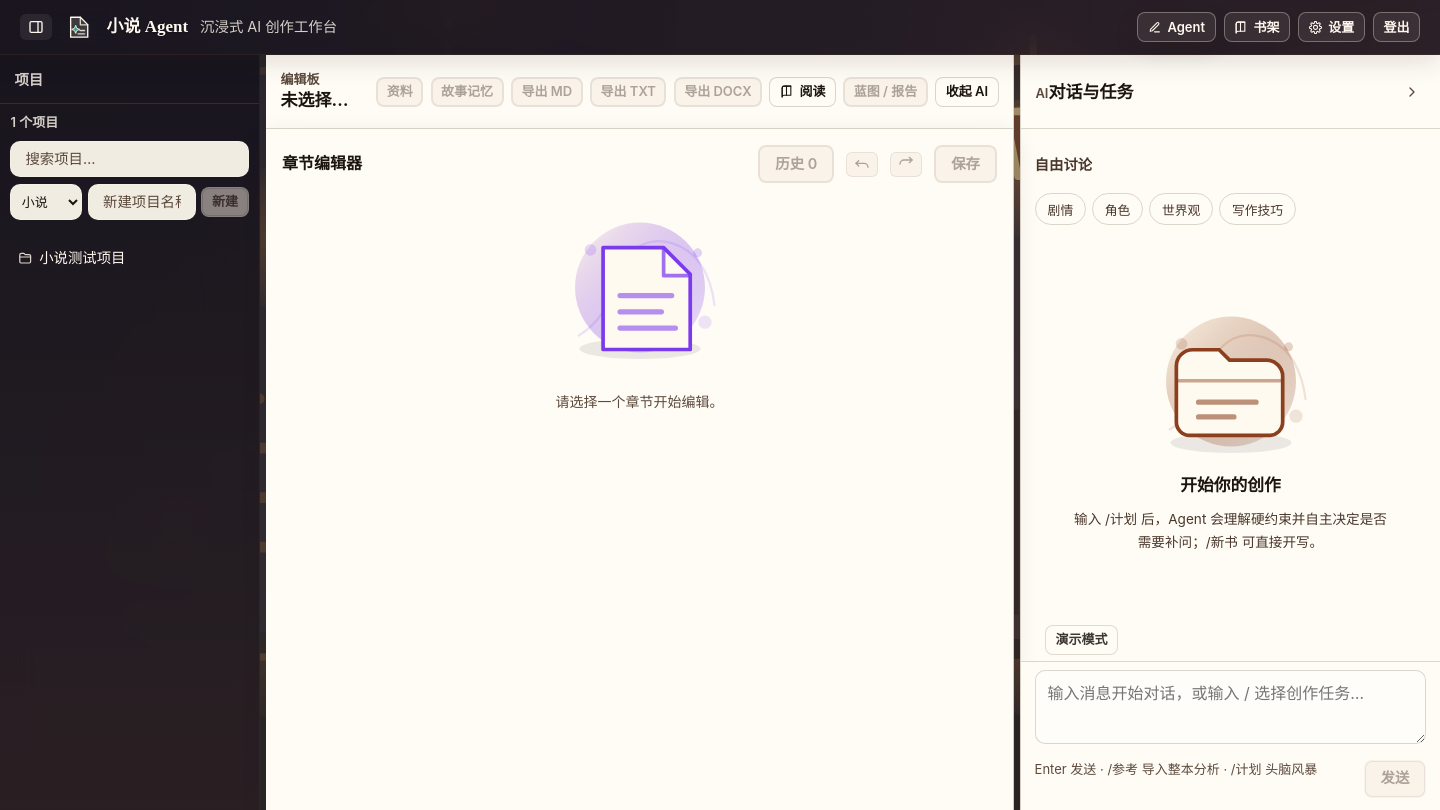
App shell › keeps the existing editor text when generated acceptance fails
Click the button titled "小说测试项目" at (101, 258), box [14, 241, 188, 275]
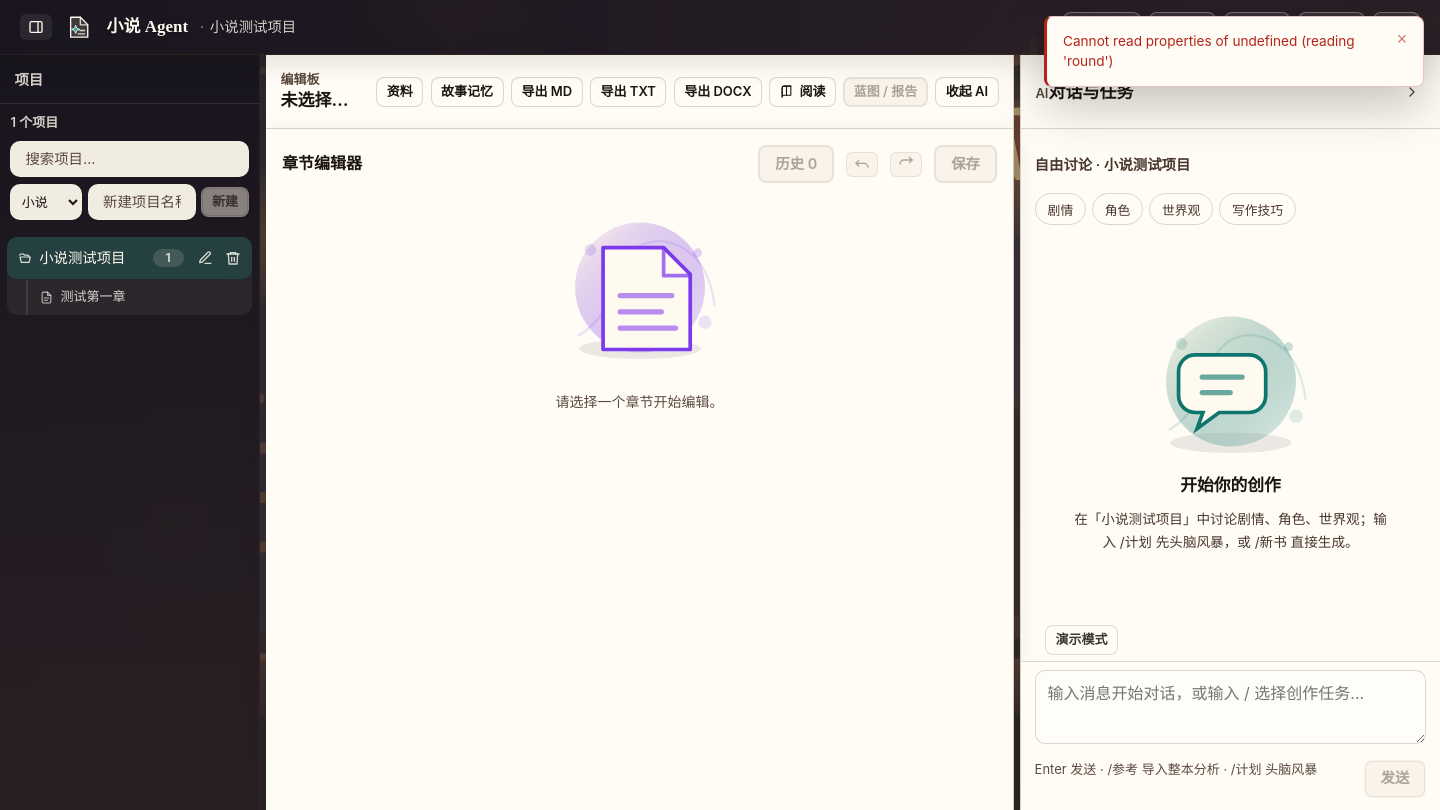
Click the button titled "测试第一章" at (128, 297), box [33, 282, 223, 312]
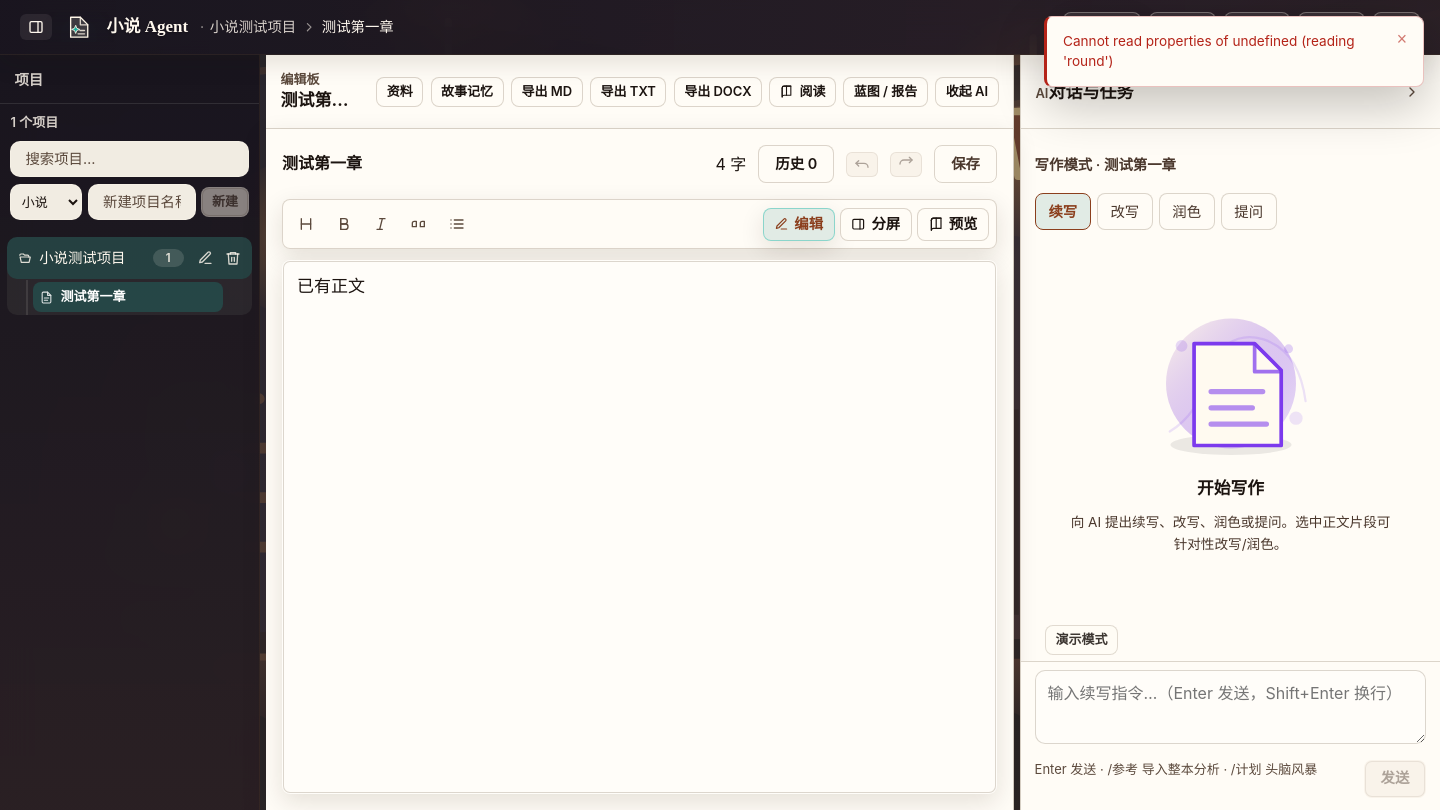
Expected: the text box named "章节正文" is shown, [282, 260, 997, 794]
Type "继续写" into the text box named "对话输入" at (1230, 706), box [1035, 670, 1426, 744]
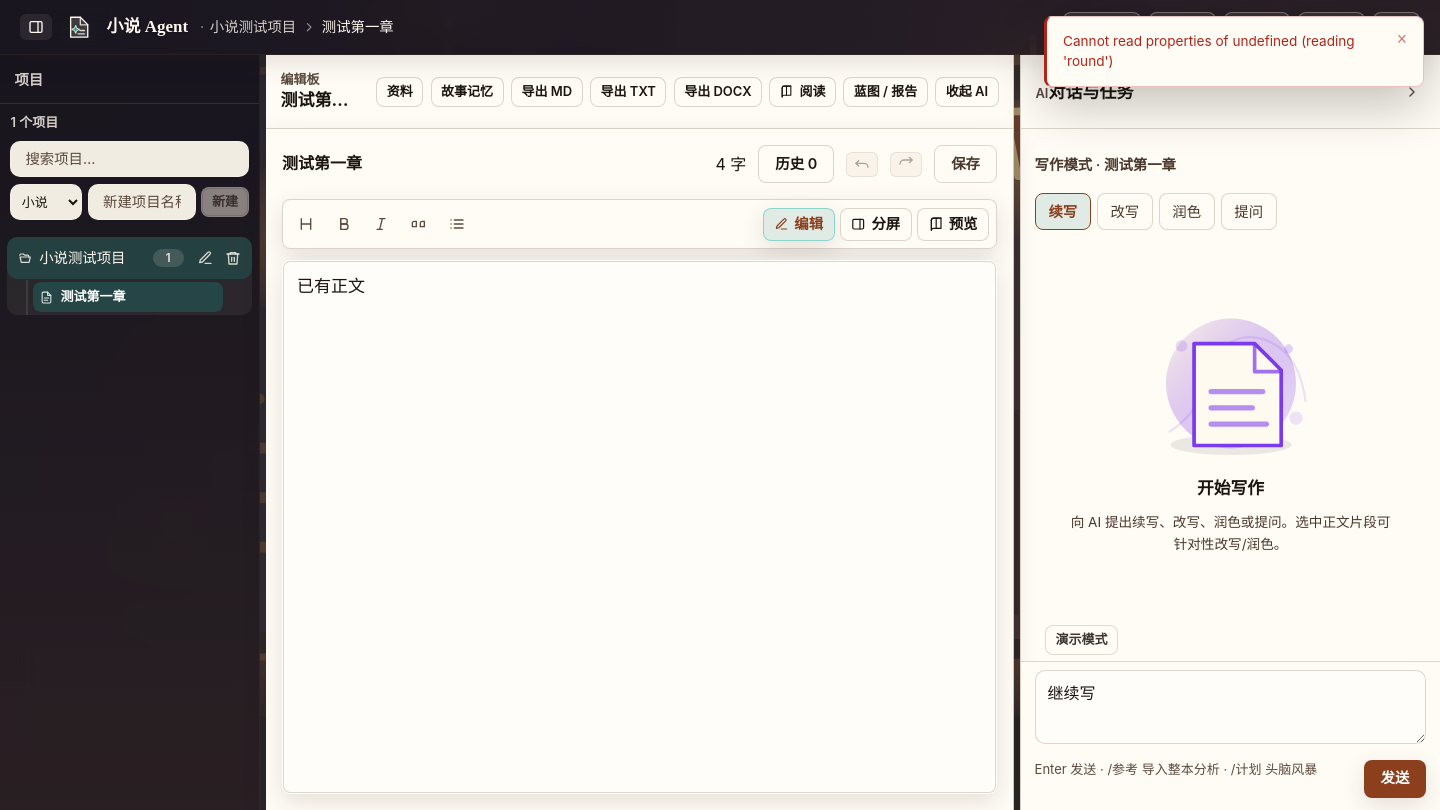
Click the button "发送" at (1395, 779), box [1364, 760, 1426, 798]
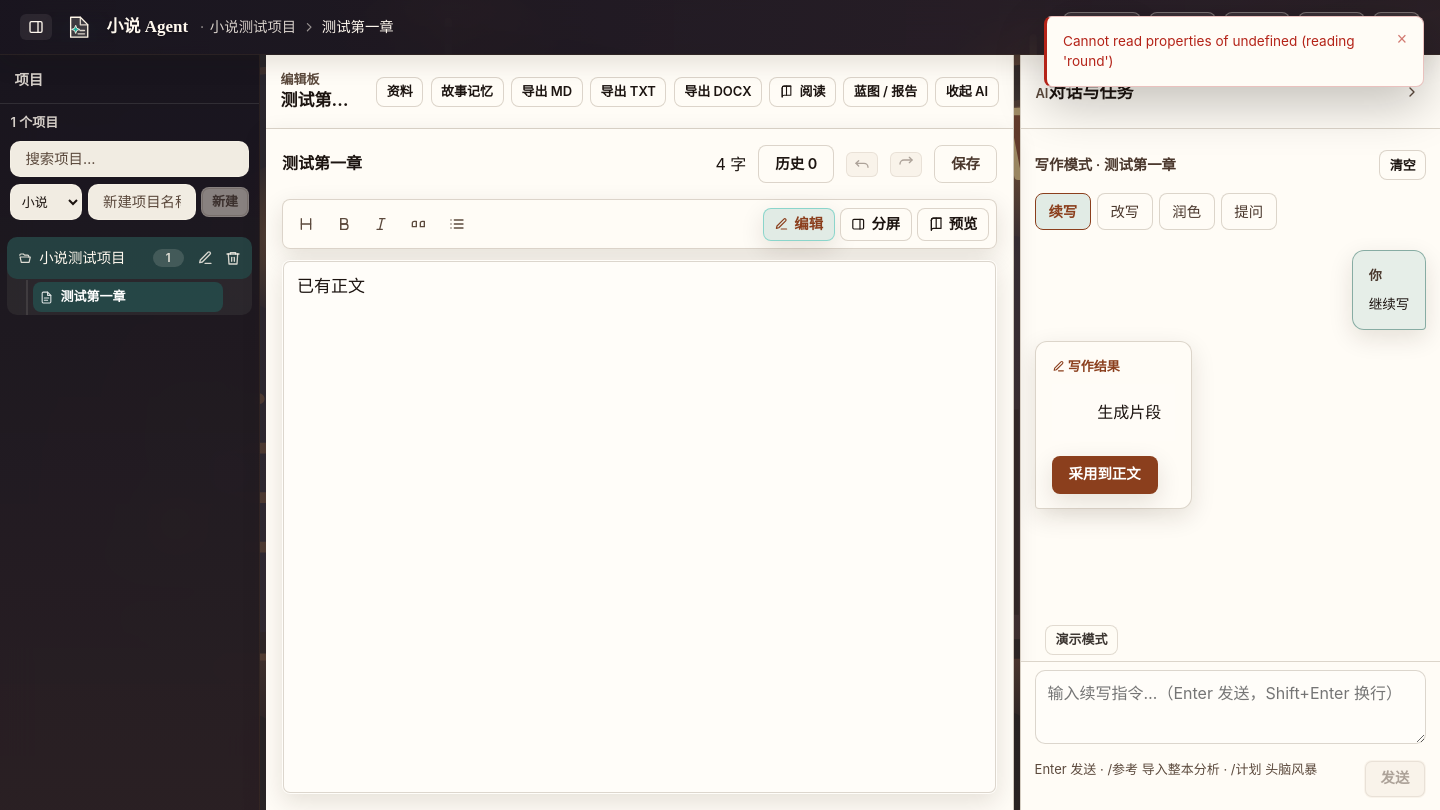
Expected: the text "生成片段" is shown, [1052, 384, 1175, 441]
Click the button "采用到正文" at (1105, 475), box [1052, 456, 1158, 494]
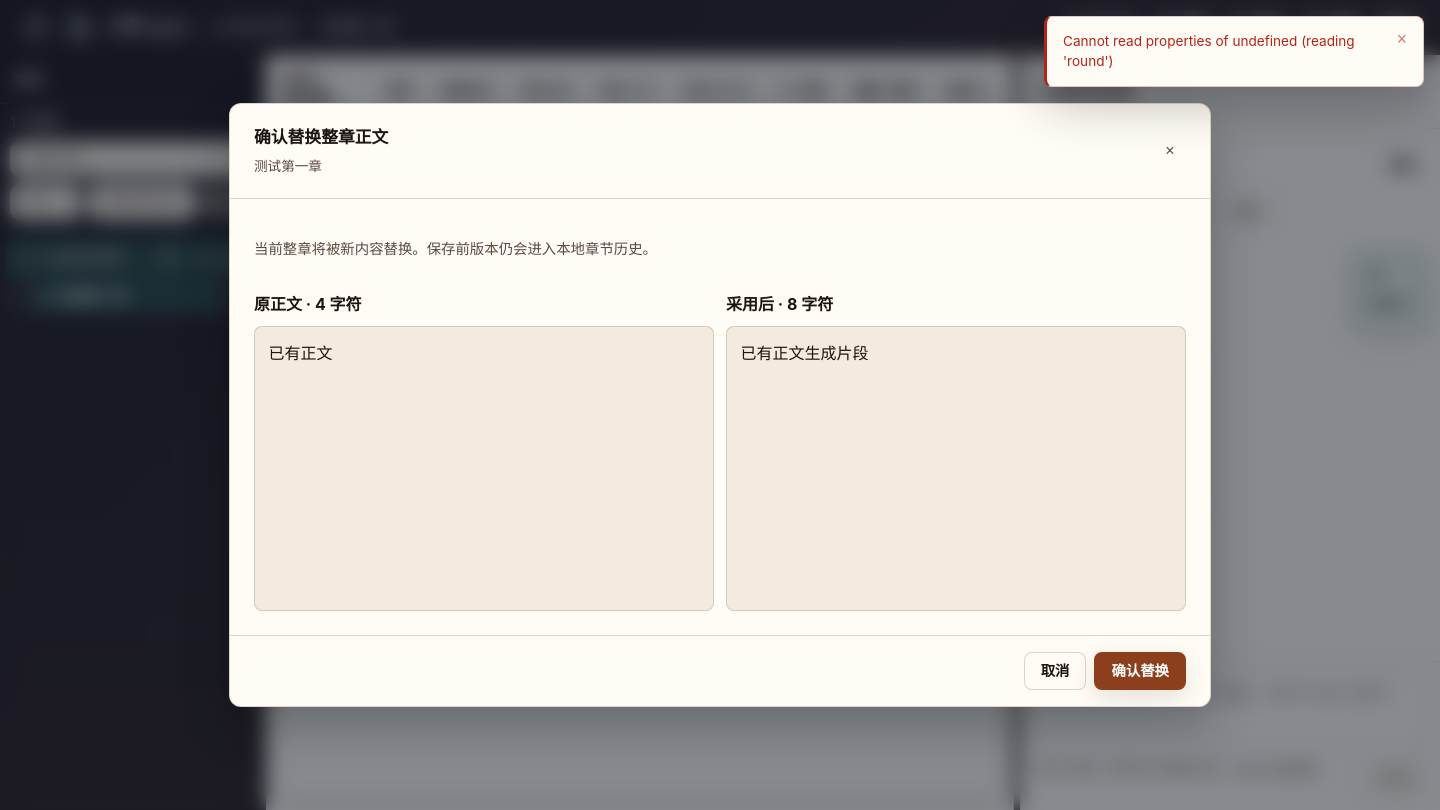
Expected: the dialog named "整章替换确认" is shown, [229, 103, 1211, 707]
Click the button "确认替换" at (1140, 671), box [1094, 652, 1186, 690]
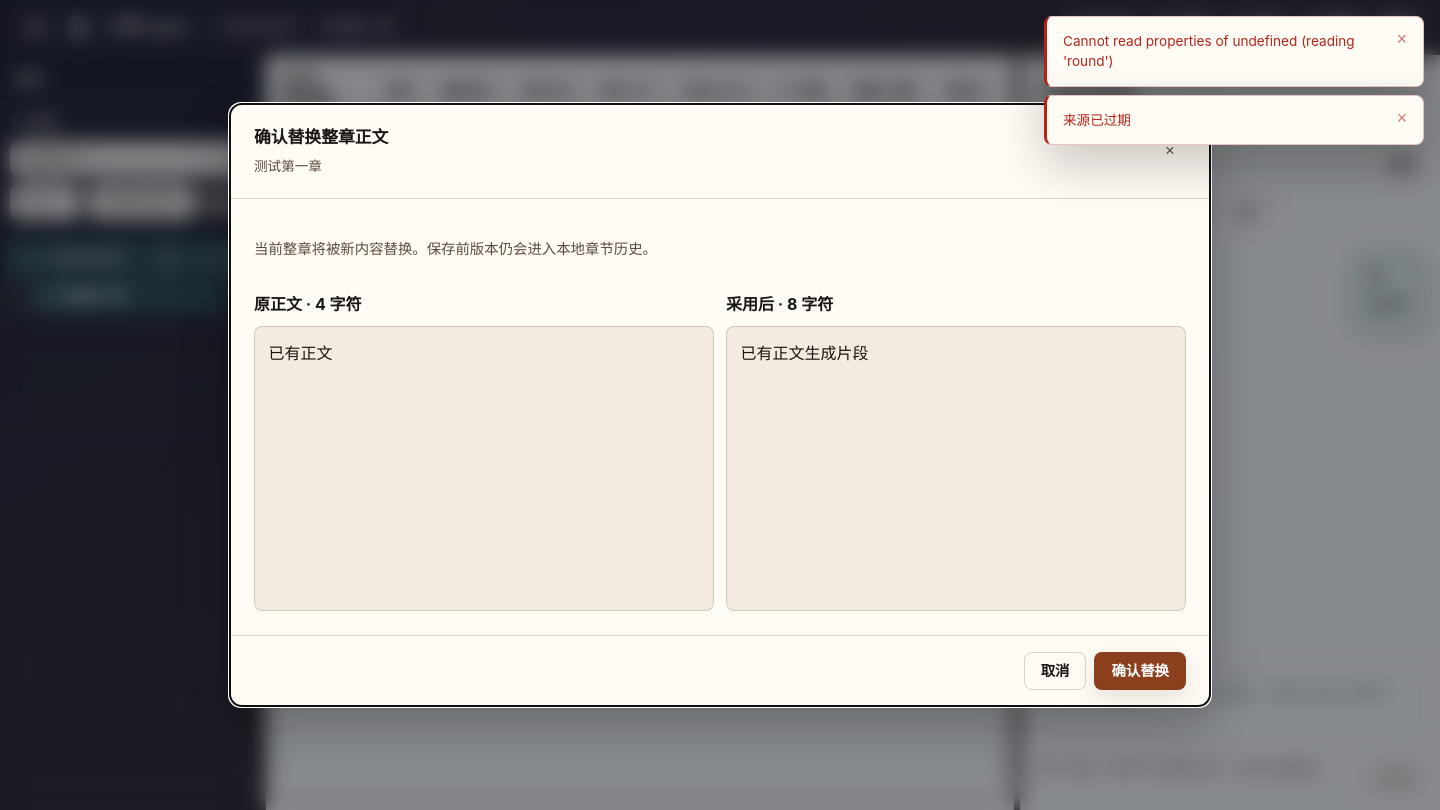
Expected: the text box named "章节正文" holds "已有正文", [282, 260, 997, 794]
Expected: the text "来源已过期" is shown, [1063, 112, 1131, 128]
